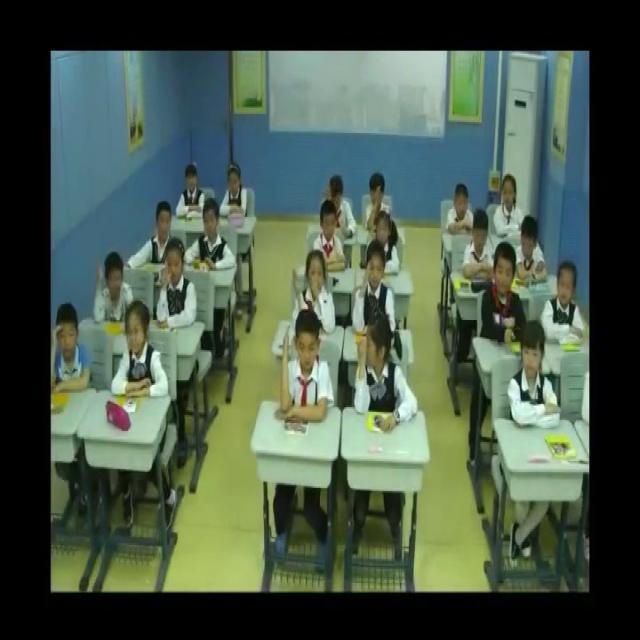distracted: (353, 315, 417, 431), (513, 216, 549, 289), (464, 210, 498, 286), (366, 170, 398, 238)
focused: (114, 300, 170, 405), (506, 322, 560, 428), (482, 242, 532, 352), (353, 242, 400, 339), (53, 300, 98, 397), (184, 197, 237, 275), (542, 261, 586, 347), (365, 206, 404, 278), (493, 168, 529, 245), (140, 198, 179, 266), (442, 177, 480, 241), (314, 204, 350, 271), (326, 172, 357, 242), (179, 160, 205, 225), (222, 163, 249, 225)
raising_hand: (278, 310, 333, 430), (291, 243, 337, 338), (156, 238, 200, 336), (92, 248, 135, 328)
